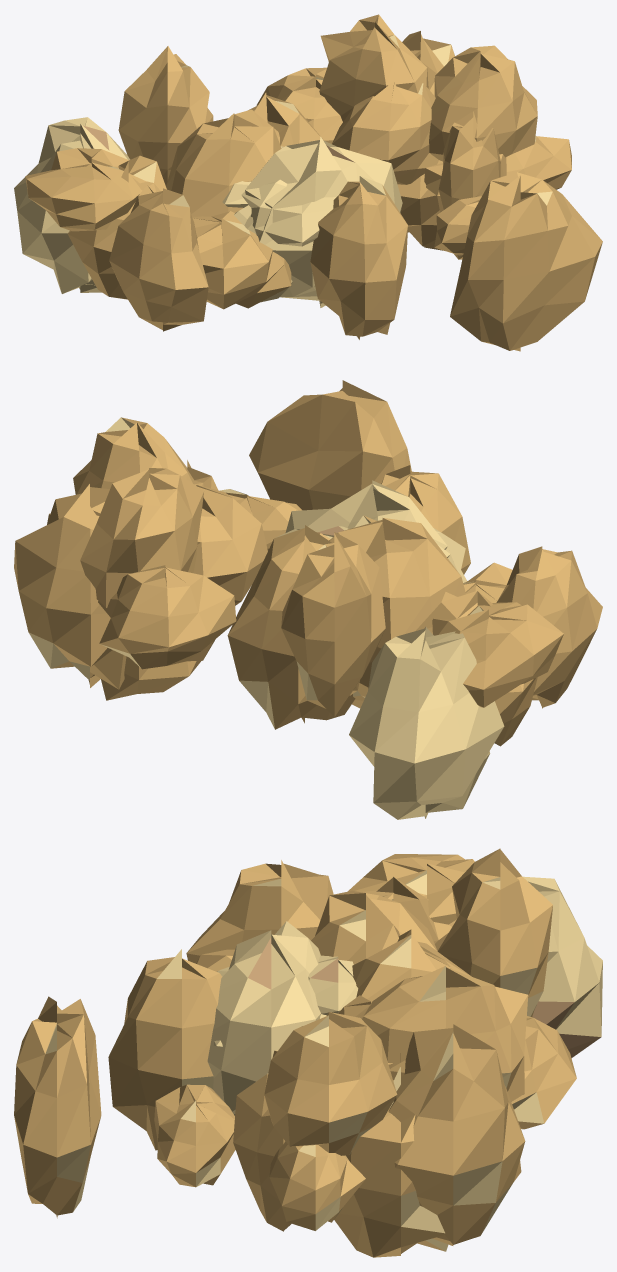
Rendered from gum_arabic.glb.
3 renders of one model, top to bottom at view 1: azimuth 30°, elevation 25°; view 2: azimuth 150°, elevation 25°; view 3: azimuth 270°, elevation 25°, orthographic. The views are drawn at different scales.
Visible parts, largest first — view 1: gum_arabic; view 2: gum_arabic; view 3: gum_arabic.
Part boxes in pixels (x1=…): gum_arabic: x1=14, y1=14, x2=602, y2=351; gum_arabic: x1=14, y1=380, x2=602, y2=819; gum_arabic: x1=14, y1=848, x2=602, y2=1257.
Size of the model in its own units: 1.26 by 0.5645 by 1.06.
